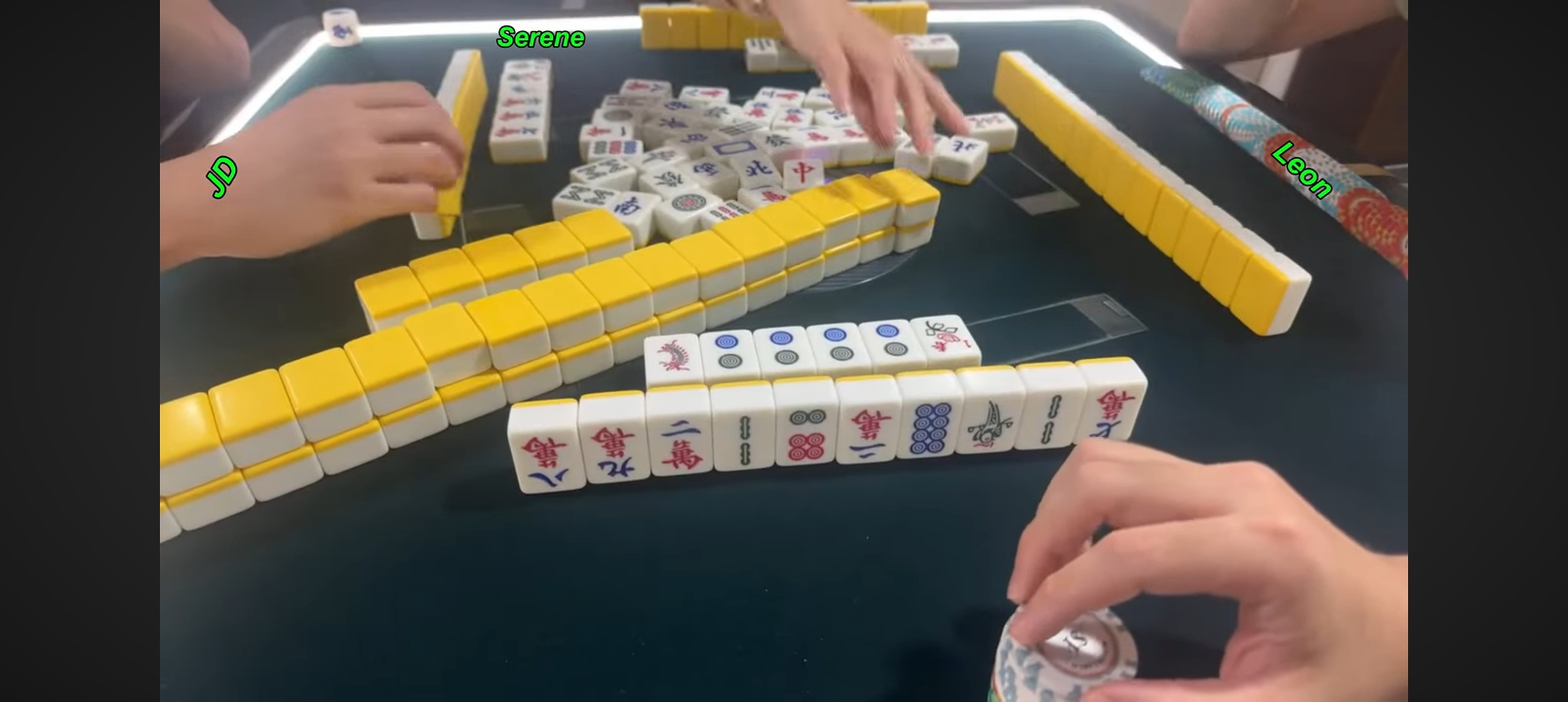TILE: (508, 426, 584, 494), (579, 420, 648, 484), (649, 411, 713, 477), (1079, 385, 1150, 444), (1017, 389, 1084, 449), (958, 390, 1020, 451), (837, 402, 901, 461), (777, 404, 837, 465), (714, 410, 775, 469), (898, 397, 960, 455), (912, 315, 983, 357), (754, 327, 820, 371), (859, 320, 921, 364), (644, 333, 702, 380), (700, 331, 759, 377), (809, 324, 867, 367)
